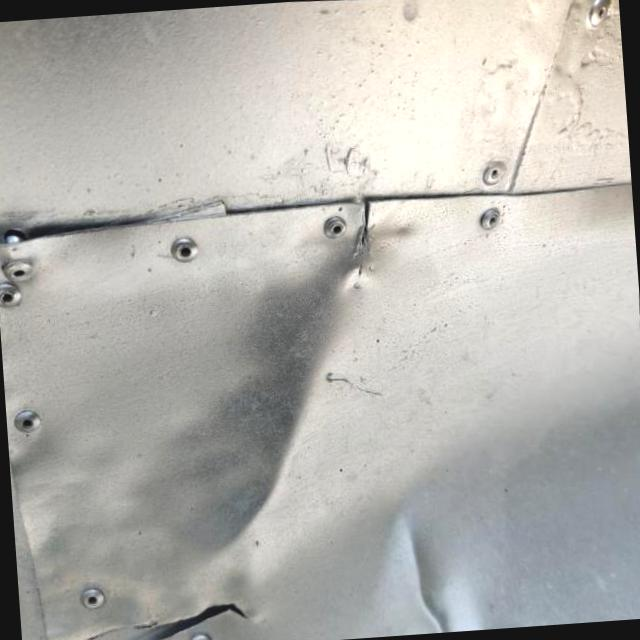dent: (118, 223, 432, 596), (344, 480, 502, 637), (0, 203, 123, 264)
